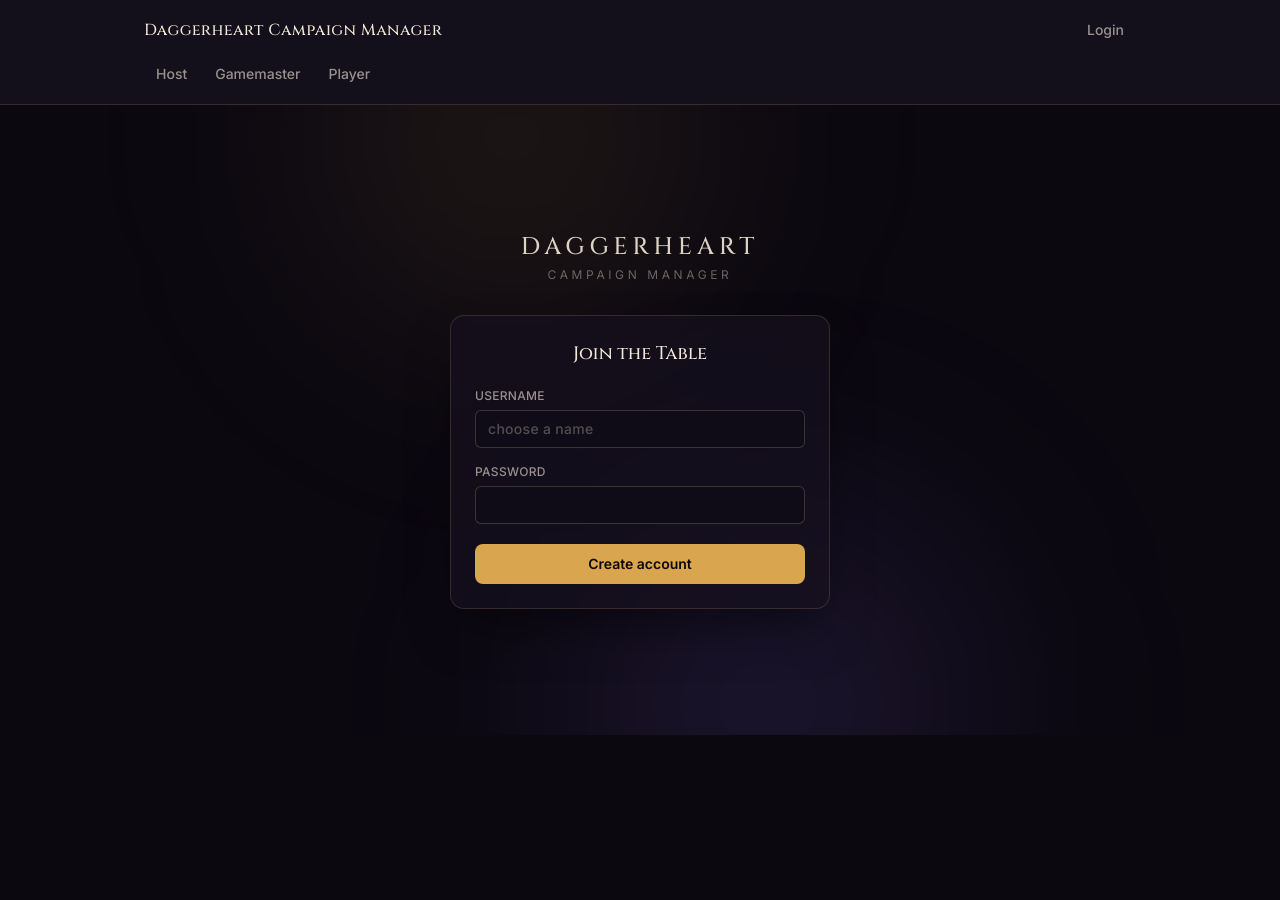
App › registers with a valid token and lands in the player area
Type "bob" into the field labelled "Username".
click(640, 429); type("bob")  # box [475, 410, 805, 448]
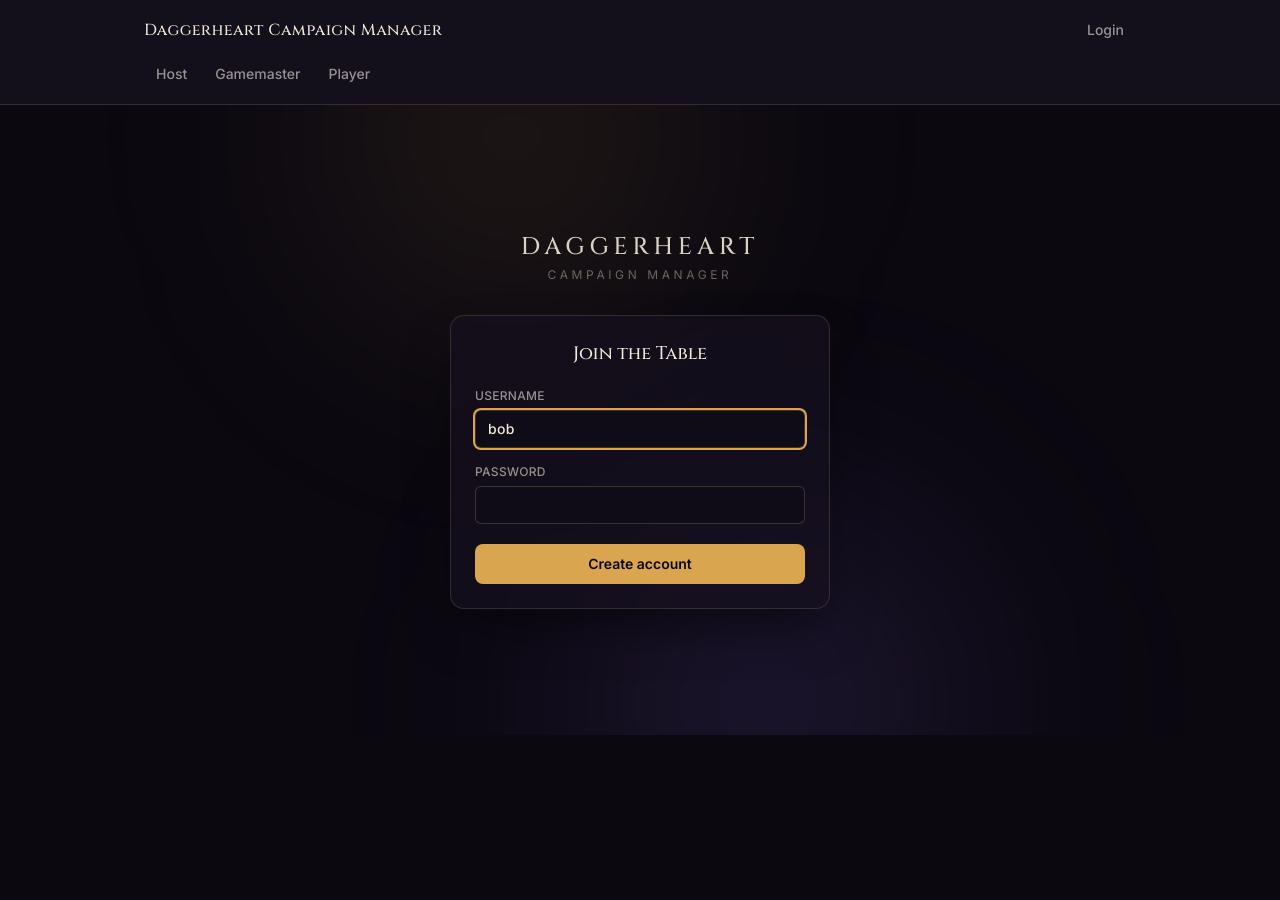
Type "a-real-password" into the password field labelled "Password".
click(640, 505); type("a-real-password")  # box [475, 486, 805, 524]
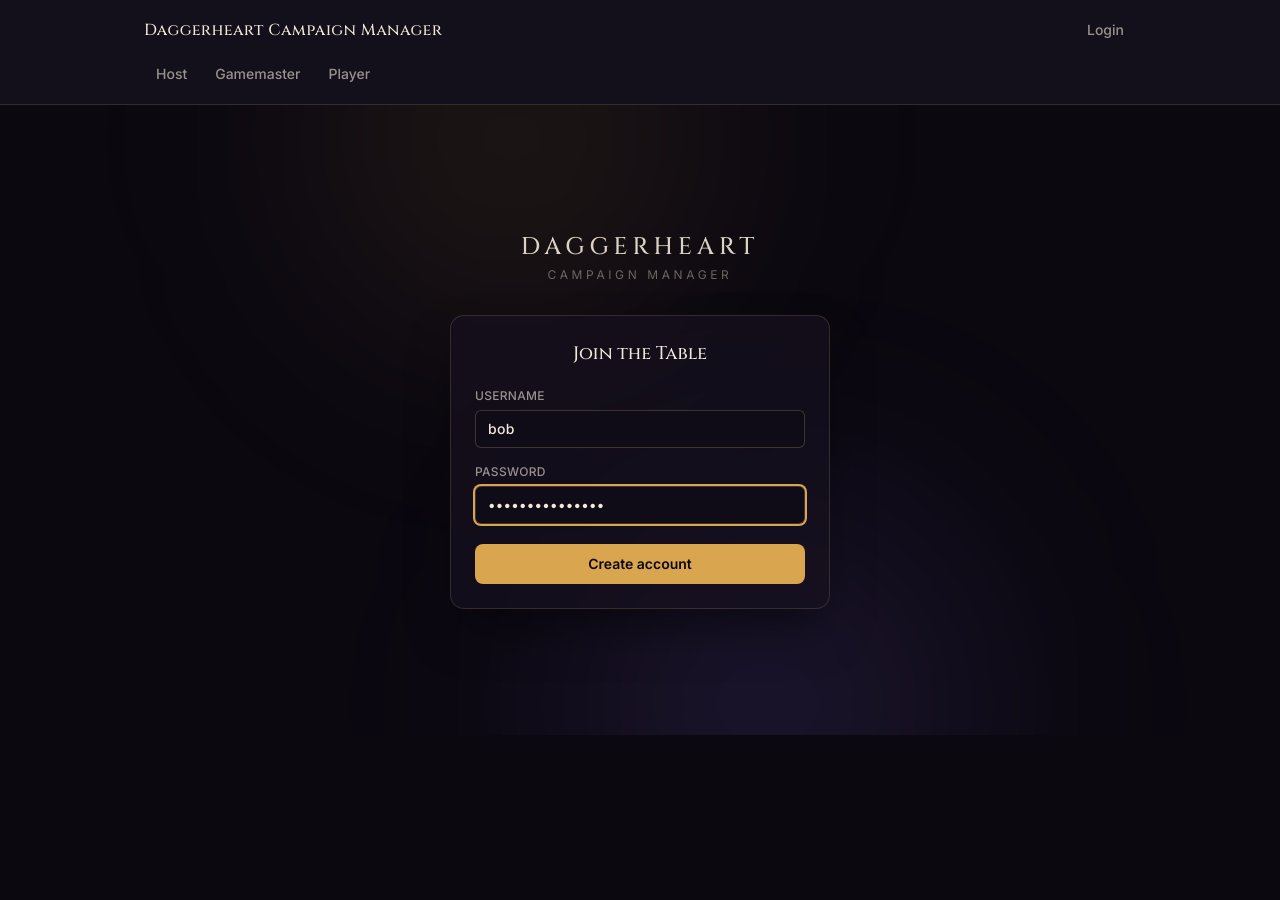
Click the button "Create account".
click(640, 564)  # box [475, 544, 805, 584]
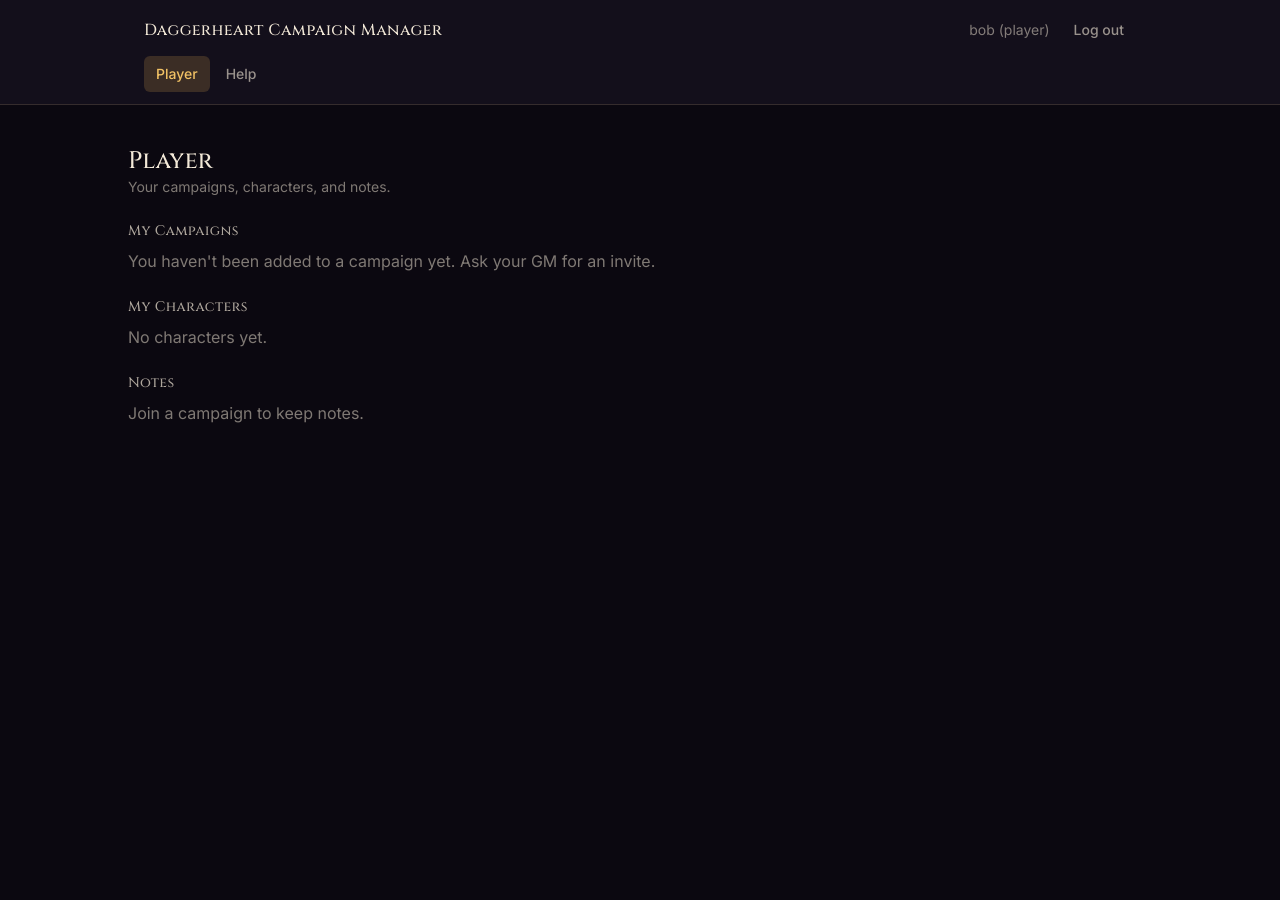
Expected: the heading "Player" is shown, [128, 145, 213, 177]
